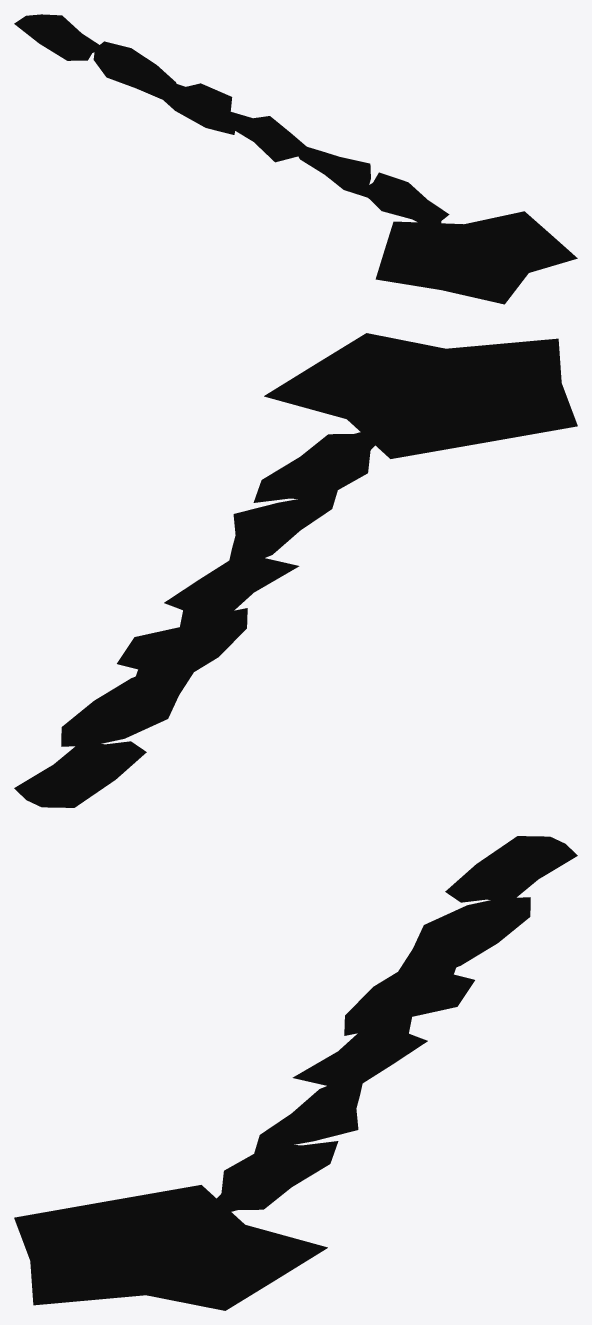
File: SM_blood_drag.fbx
3 views of the same model, one above another, from view 1: azimuth 30°, elevation 25°; view 2: azimuth 150°, elevation 25°; view 3: azimuth 330°, elevation 25° (orthographic). The views are drawn at different scales.
Parts seen in each view (by area): view 1: blood_drag; view 2: blood_drag; view 3: blood_drag.
Part boxes in pixels (left/top/right/bottom): blood_drag: left=14, top=14, right=577, bottom=304; blood_drag: left=14, top=333, right=577, bottom=807; blood_drag: left=14, top=836, right=577, bottom=1310.
Bounding box in the file's own units: 0.6477 × 0 × 2.42.
